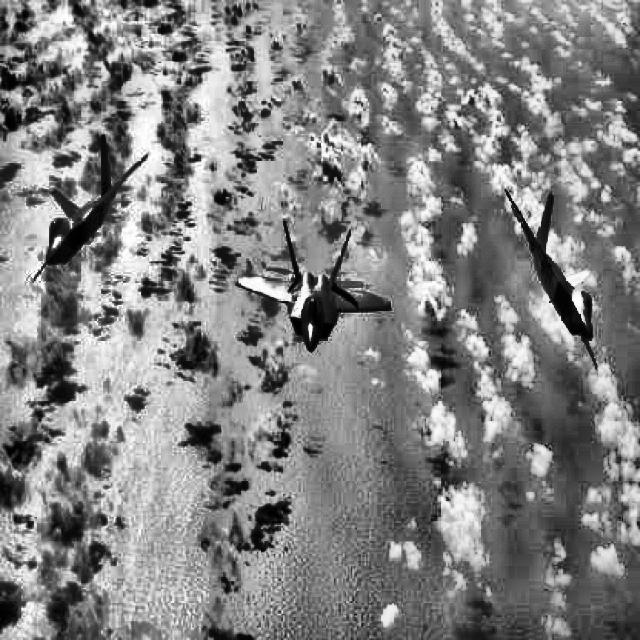F22: (235, 218, 392, 352), (503, 186, 599, 372), (31, 133, 149, 284)
